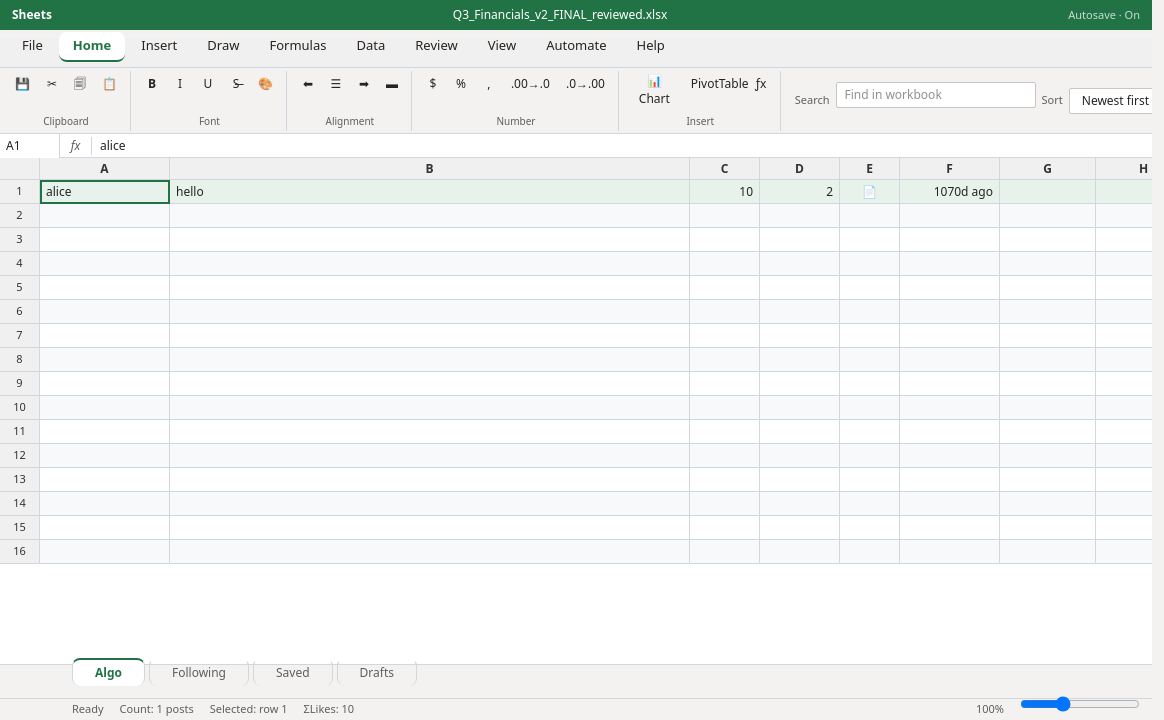
it: LedgerPage › shows a toast when a fake ribbon button is clicked
Click the button with test id "ledger-fun-save": (22, 84) [8,70,37,96]
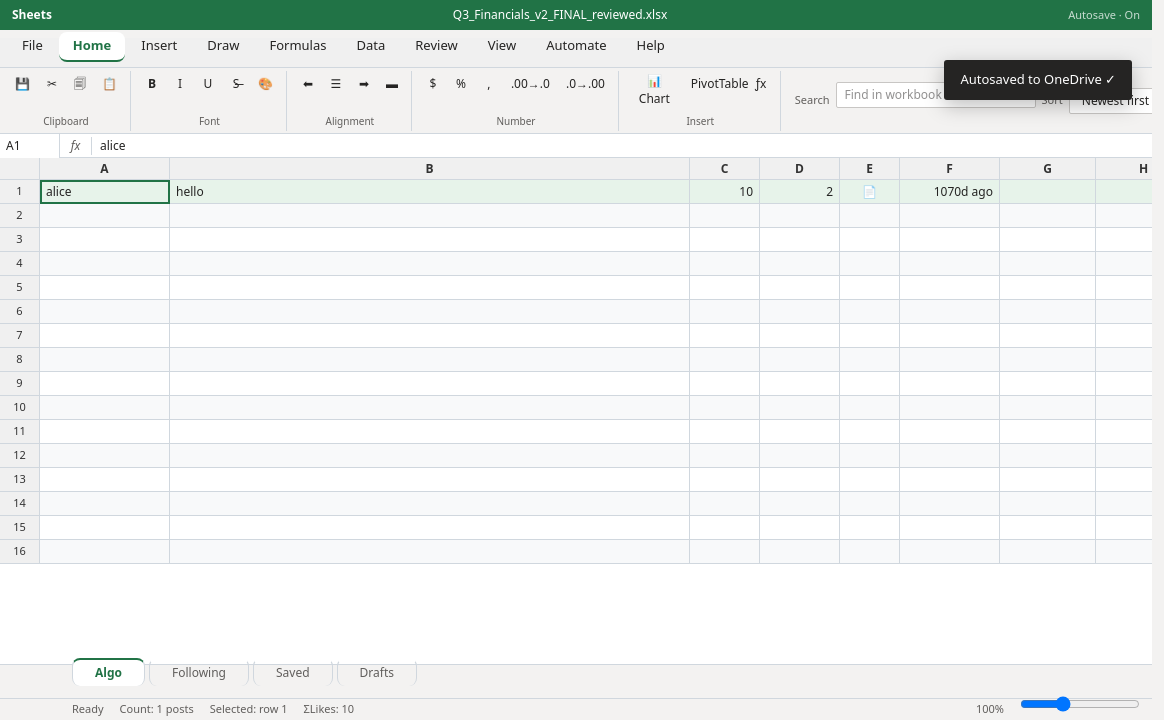
Now the text with test id "ledger-fun-toast" shows "Autosaved", box [960,70,1116,88]
